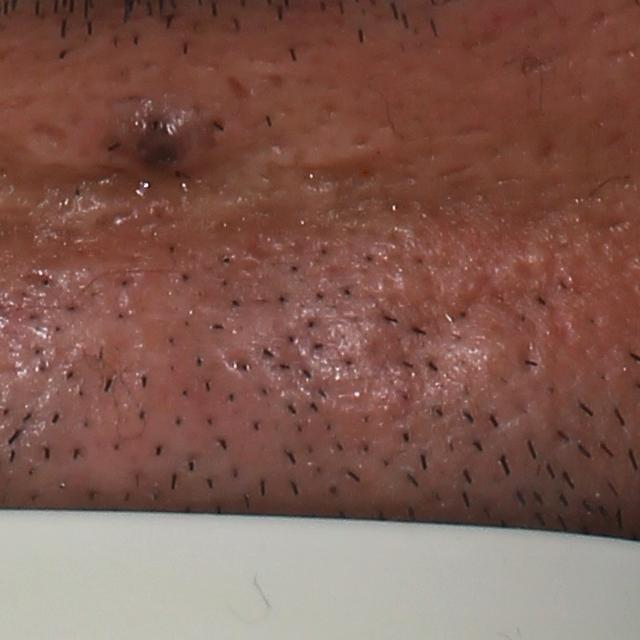atrophic_scar: (364, 261, 546, 398), (211, 205, 307, 265), (36, 160, 139, 214), (305, 157, 379, 199), (213, 341, 256, 378), (26, 120, 67, 153), (225, 74, 250, 102)
hypertrophic_scar: (38, 247, 139, 373), (263, 133, 396, 174)
nevus: (109, 89, 220, 181)
